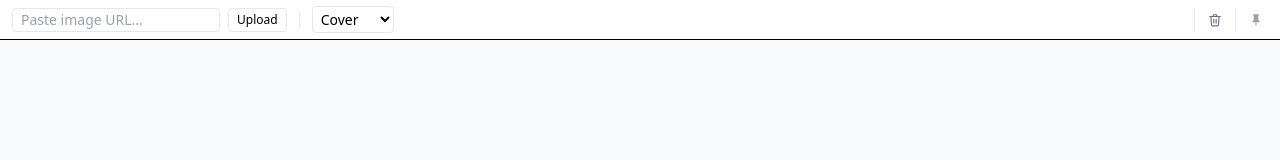
it: AC6: HTTP URL triggers asset fetch › shows an error message when fetchAssetFromUrl fails
Type "https://example.com/broken.jpg" into the field labelled "image URL".
click(116, 20); type("https://example.com/broken.jpg")  # box [12,8,220,32]
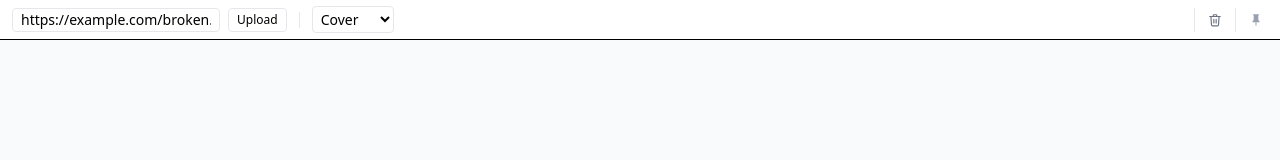
Press Enter in the field named "image URL", box [12,8,220,32]
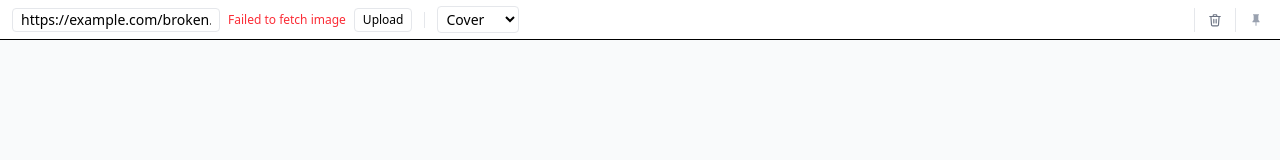
Expected: the text "Failed to fetch image" is shown, [228,12,346,28]
